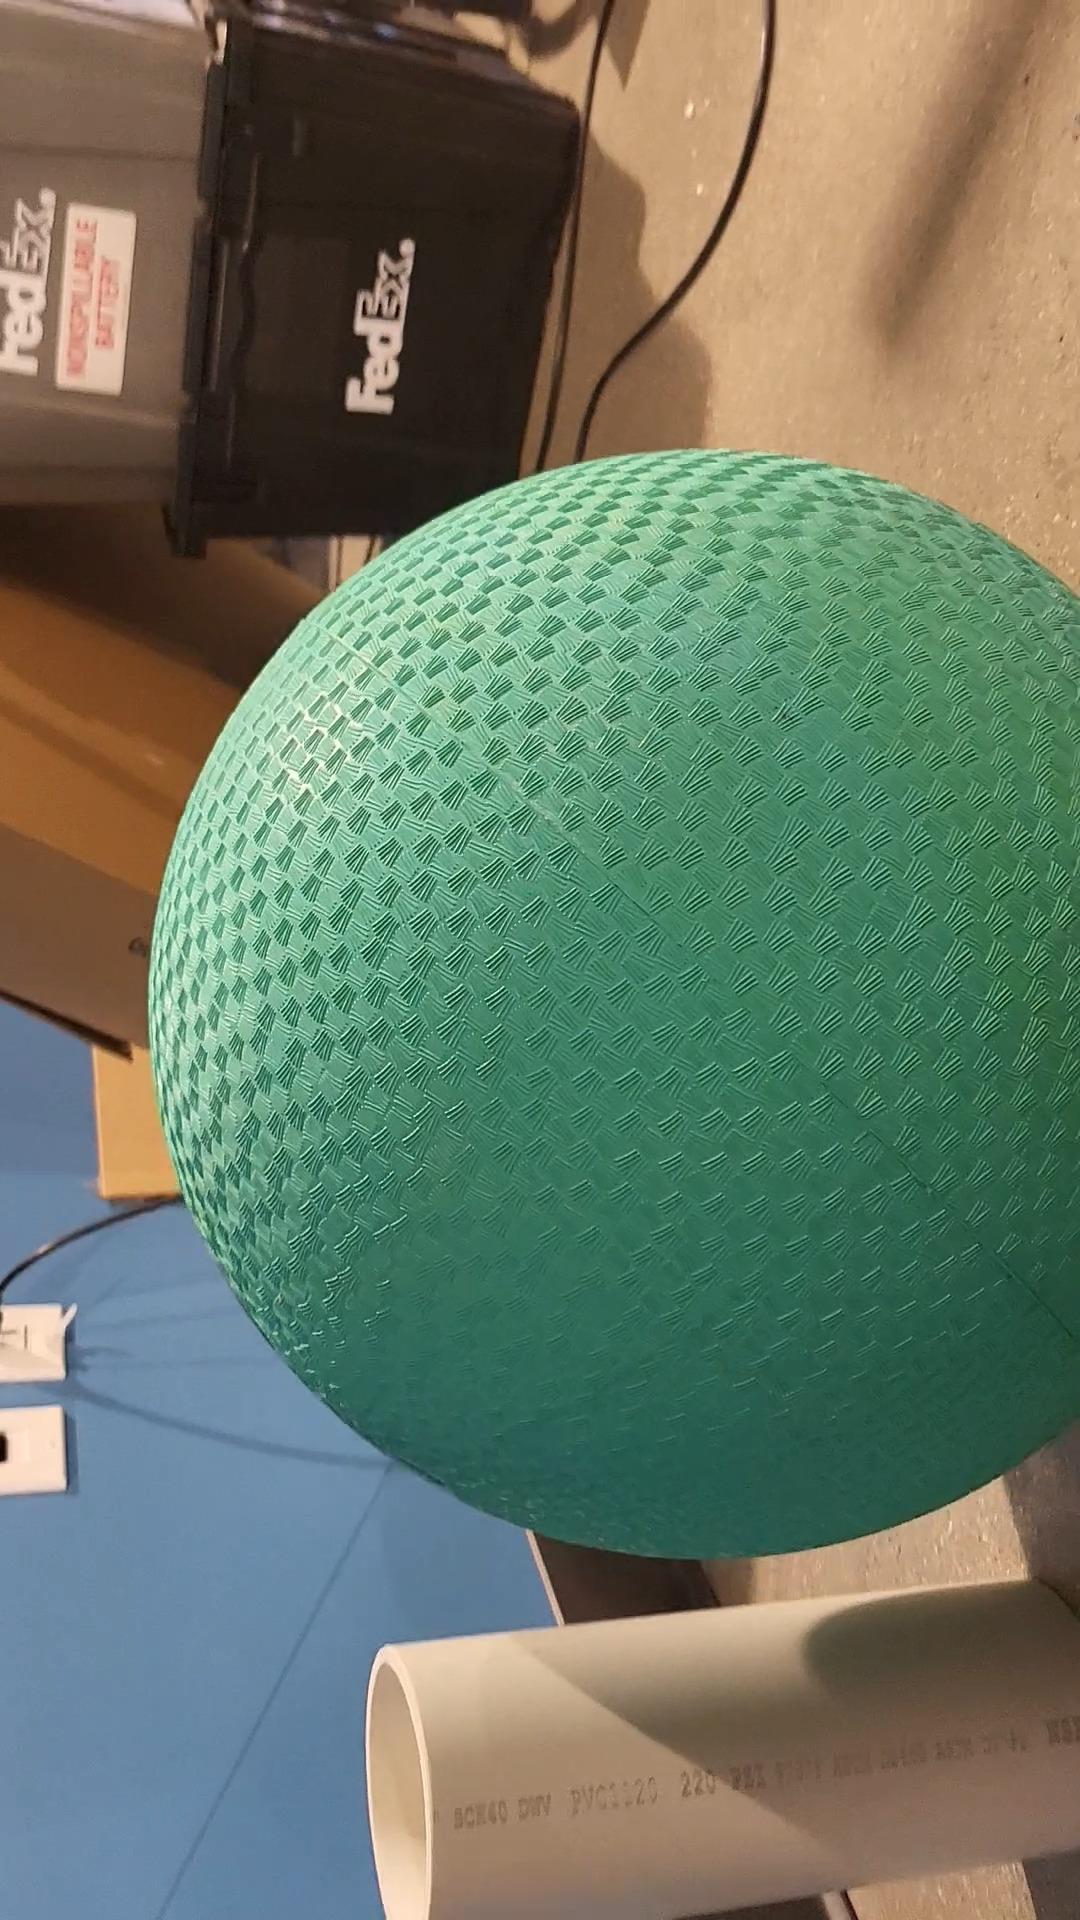algae: (144, 451, 1080, 1560)
coral: (367, 1580, 1080, 1920)
